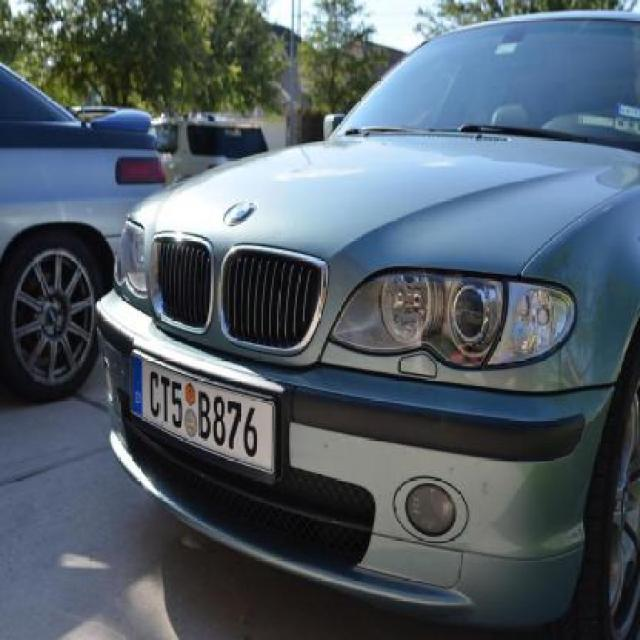License-Plates: (118, 342, 285, 490)
